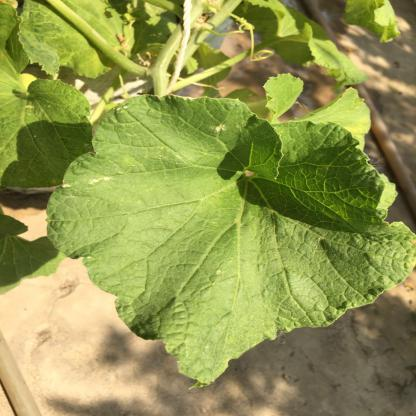Normal: (117, 102, 376, 300)
